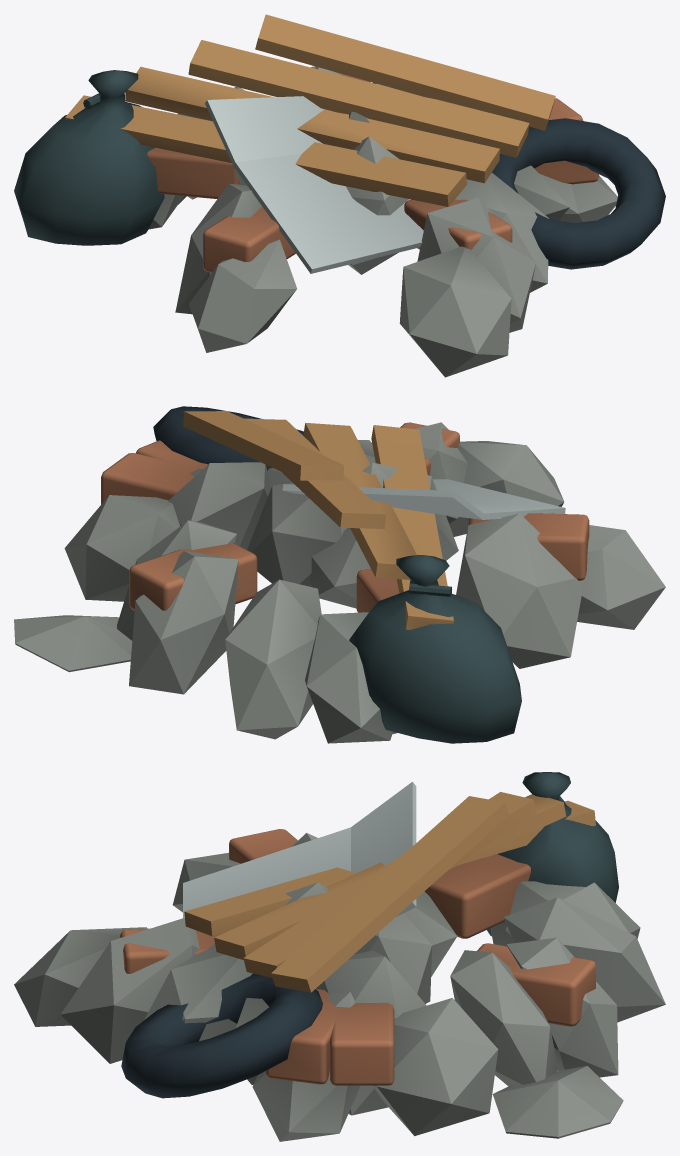
The model's file is industrial-waste-low.glb.
3 renders of one model, top to bottom at view 1: azimuth 30°, elevation 25°; view 2: azimuth 150°, elevation 25°; view 3: azimuth 270°, elevation 25°, orthographic. The views are drawn at different scales.
Parts seen in each view (by area): view 1: discarded pallet slat, fractured concrete, creased tied refuse sack, bent metal sheet, discarded tyre, broken hollow brick; view 2: fractured concrete, creased tied refuse sack, discarded pallet slat, broken hollow brick, bent metal sheet, discarded tyre; view 3: fractured concrete, discarded pallet slat, broken hollow brick, discarded tyre, bent metal sheet, creased tied refuse sack.
Boxes of the visible parts, x1,y1,x2,y2 form: discarded pallet slat: (65, 14, 555, 206); fractured concrete: (148, 66, 617, 377); creased tied refuse sack: (14, 70, 164, 245); bent metal sheet: (205, 96, 423, 273); discarded tyre: (492, 118, 665, 269); broken hollow brick: (147, 66, 598, 272); fractured concrete: (14, 422, 665, 743); creased tied refuse sack: (349, 555, 521, 743); discarded pallet slat: (183, 411, 453, 629); broken hollow brick: (101, 422, 589, 612); bent metal sheet: (282, 479, 565, 519); discarded tyre: (153, 406, 303, 470); fractured concrete: (14, 833, 665, 1141); discarded pallet slat: (184, 792, 595, 992); broken hollow brick: (120, 829, 595, 1085); discarded tyre: (121, 973, 322, 1098); bent metal sheet: (183, 782, 416, 917); creased tied refuse sack: (487, 772, 618, 936).
Size of the model in its own units: 1.09 by 0.4639 by 1.16.
